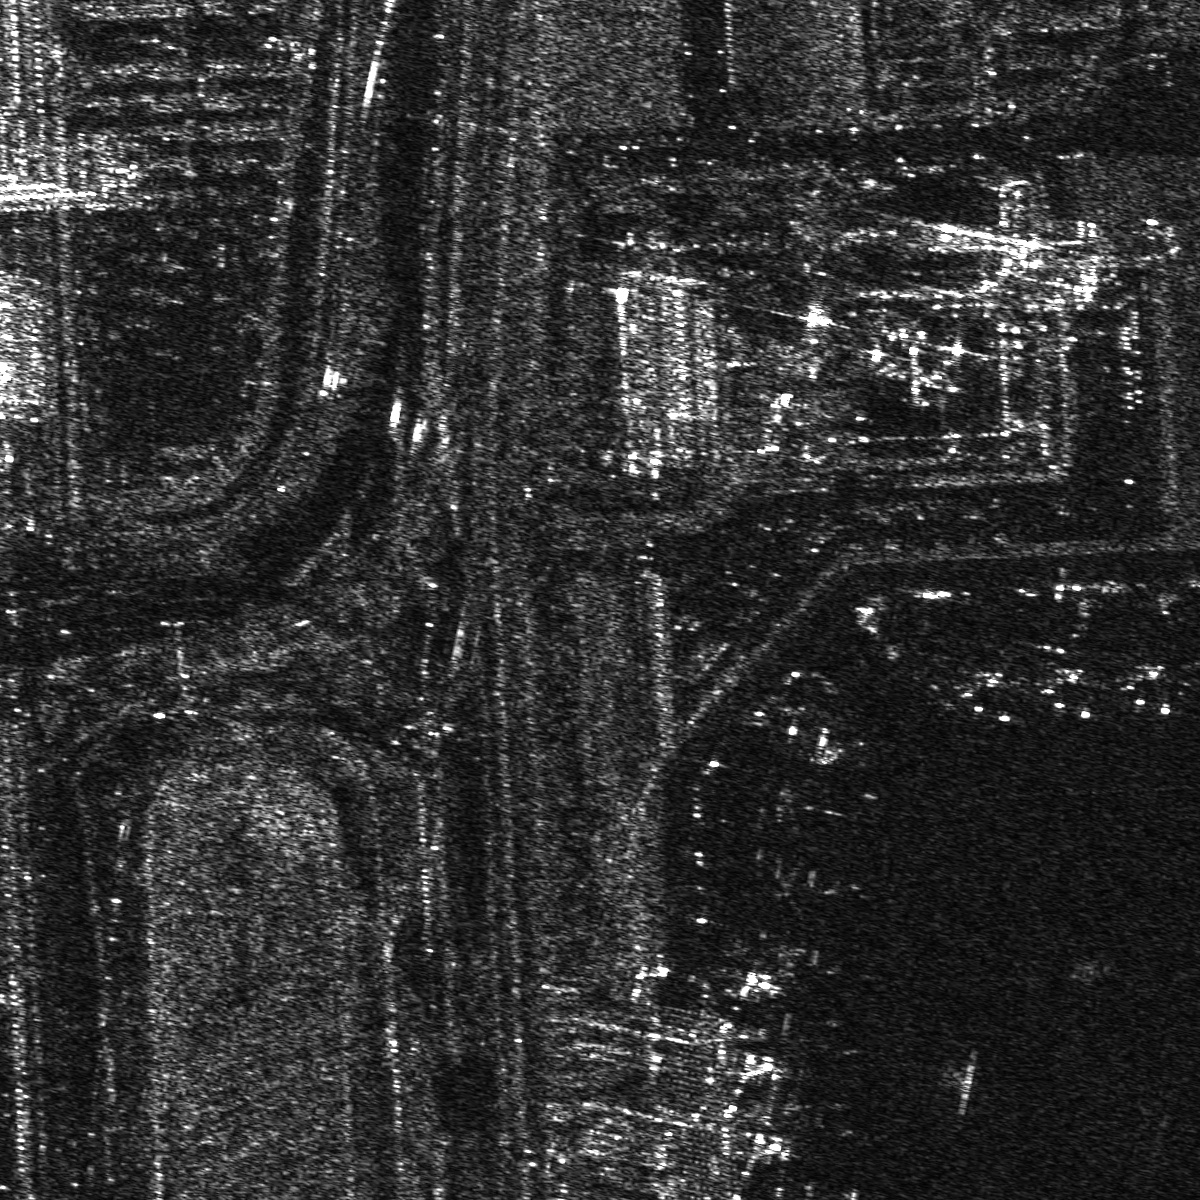Boeing737: (1030, 663, 1105, 724), (1120, 659, 1192, 716), (953, 669, 1024, 723)
